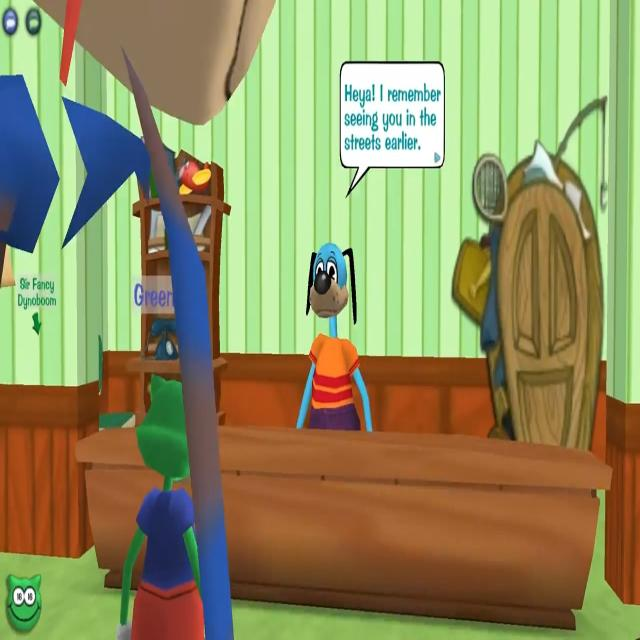npc: (295, 230, 372, 452)
